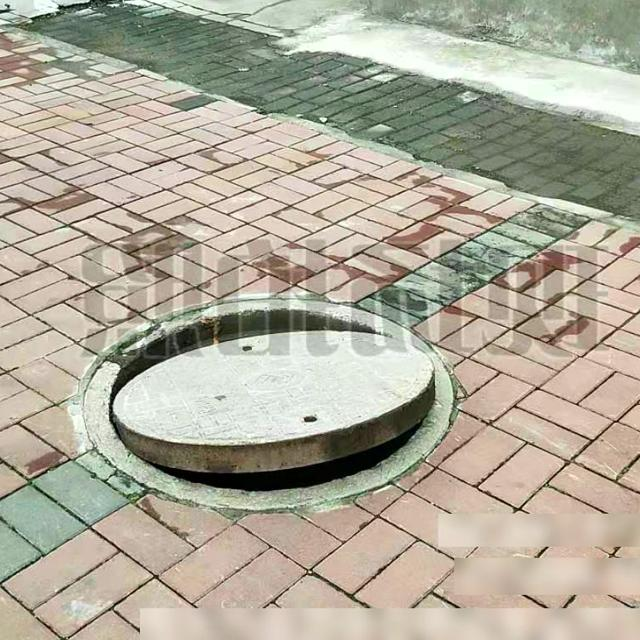uncovered: (80, 295, 455, 512)
